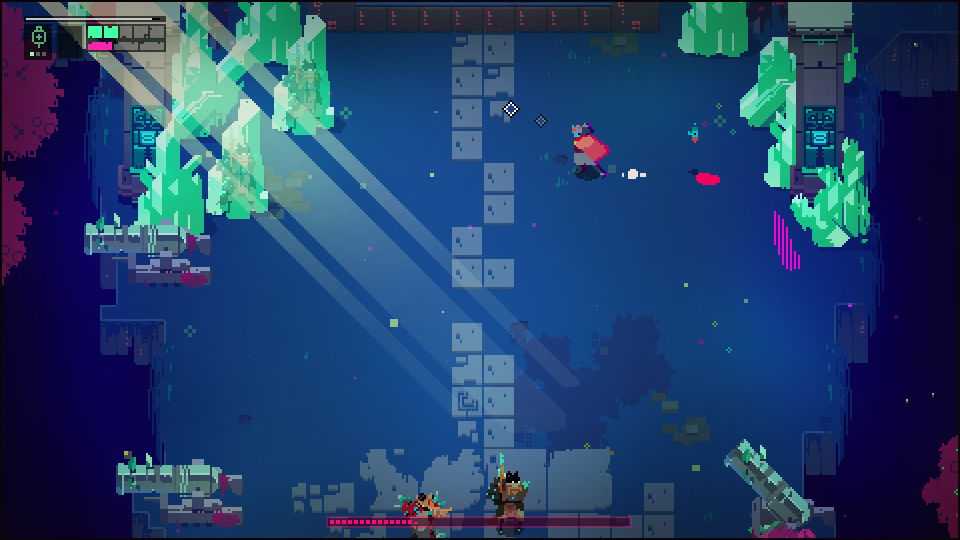hanged_man: (394, 485, 452, 540)
player: (569, 122, 611, 182)
